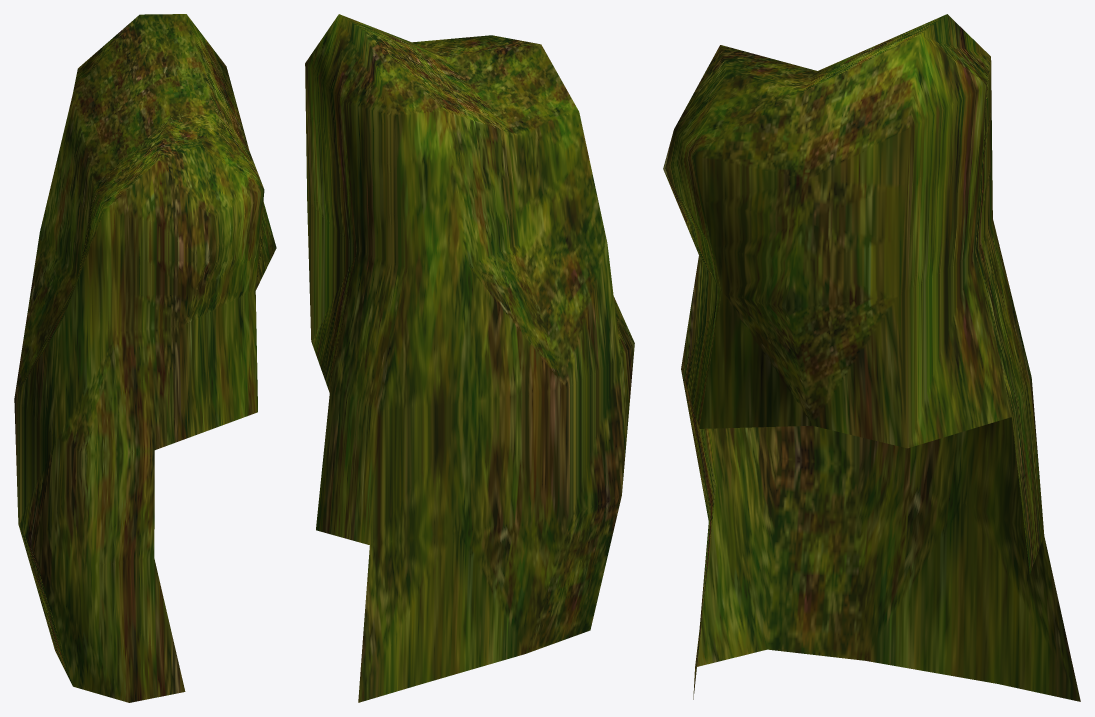
The model's file is TROLLHOLE02_RM_PSURF192.fbx.
The picture shows the model from 3 angles, left to right: view 1: azimuth 30°, elevation 25°; view 2: azimuth 150°, elevation 25°; view 3: azimuth 270°, elevation 25°; orthographic projection. The views are drawn at different scales.
Visible parts, largest first — view 1: TROLLHOLE02_RM_PSURF192; view 2: TROLLHOLE02_RM_PSURF192; view 3: TROLLHOLE02_RM_PSURF192.
Boxes of the visible parts, x1,y1,x2,y2 form: TROLLHOLE02_RM_PSURF192: (14,14,276,702); TROLLHOLE02_RM_PSURF192: (305,14,634,702); TROLLHOLE02_RM_PSURF192: (663,14,1080,701).
Size of the model in its own units: 47817 by 108287 by 56660.
Materials: 1 (1 with a texture image).
